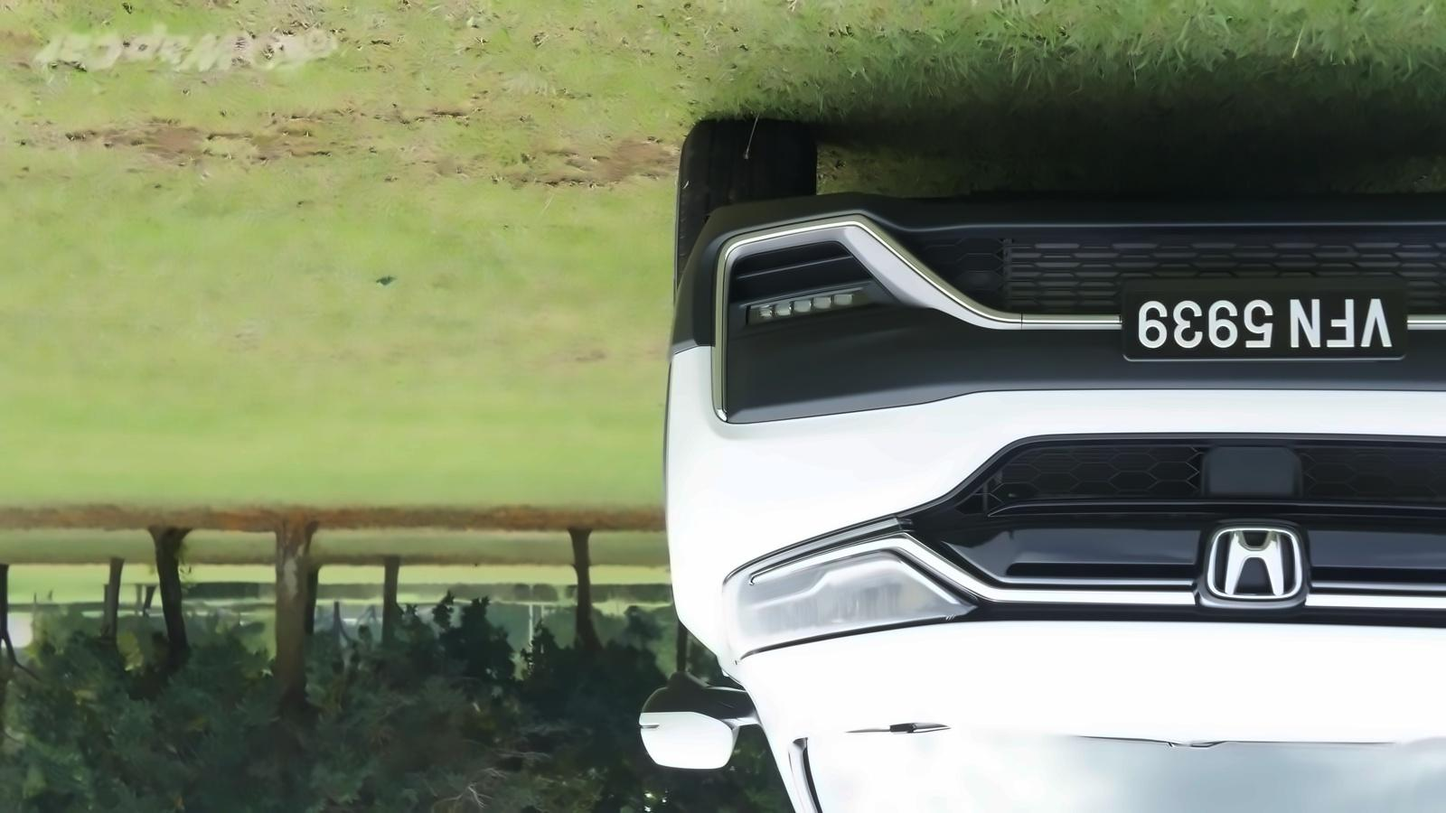Car hood: (728, 620, 1446, 748)
Front bumper: (674, 180, 1446, 412)
Headlight - -L-: (723, 518, 972, 670)
Side mirror - -L-: (638, 674, 756, 775)
